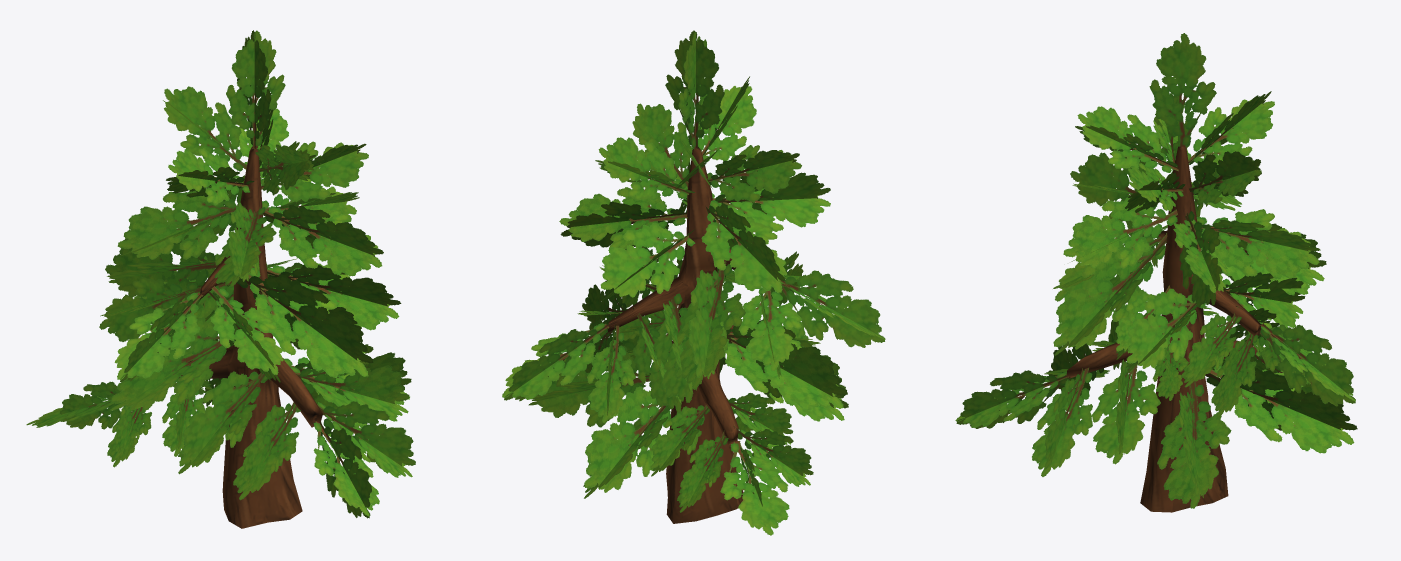
Rendered from tree1_01.fbx.
3 views of the same model, side by side, from view 1: azimuth 30°, elevation 25°; view 2: azimuth 150°, elevation 25°; view 3: azimuth 270°, elevation 25° (orthographic). The views are drawn at different scales.
Visible parts, largest first — view 1: polySurface3, pPlane26, pPlane61, pPlane60, pPlane15, pPlane31, pPlane10, pPlane53, pPlane75, pPlane1, pPlane58, pPlane78 (+36 smaller); view 2: polySurface3, pPlane47, pPlane11, pPlane34, pPlane6, pPlane27, pPlane54, pPlane57, pPlane12, pPlane1, pPlane32, pPlane52 (+32 smaller); view 3: polySurface3, pPlane30, pPlane60, pPlane84, pPlane3, pPlane35, pPlane46, pPlane5, pPlane63, pPlane81, pPlane21, pPlane47 (+32 smaller).
Boxes of the visible parts, bbox=[...] form: polySurface3: bbox=[179, 146, 322, 528]; pPlane26: bbox=[117, 188, 238, 259]; pPlane61: bbox=[248, 267, 368, 377]; pPlane60: bbox=[237, 274, 373, 363]; pPlane15: bbox=[164, 86, 246, 171]; pPlane31: bbox=[262, 206, 382, 276]; pPlane10: bbox=[114, 292, 203, 379]; pPlane53: bbox=[111, 317, 234, 410]; pPlane75: bbox=[179, 371, 265, 466]; pPlane1: bbox=[226, 30, 285, 148]; pPlane58: bbox=[210, 286, 283, 374]; pPlane78: bbox=[318, 401, 415, 468]; polySurface3: bbox=[607, 147, 743, 523]; pPlane47: bbox=[584, 386, 670, 492]; pPlane11: bbox=[780, 270, 885, 347]; pPlane34: bbox=[600, 222, 695, 297]; pPlane6: bbox=[720, 441, 789, 535]; pPlane27: bbox=[701, 200, 787, 292]; pPlane54: bbox=[673, 260, 745, 388]; pPlane57: bbox=[738, 286, 802, 371]; pPlane12: bbox=[598, 137, 688, 200]; pPlane1: bbox=[665, 30, 724, 148]; pPlane32: bbox=[559, 187, 687, 248]; pPlane52: bbox=[725, 333, 843, 410]; polySurface3: bbox=[1066, 146, 1261, 512]; pPlane30: bbox=[1063, 197, 1177, 268]; pPlane60: bbox=[1053, 233, 1167, 349]; pPlane84: bbox=[1157, 380, 1231, 508]; pPlane3: bbox=[1149, 33, 1216, 146]; pPlane35: bbox=[1196, 209, 1319, 279]; pPlane46: bbox=[1209, 366, 1354, 453]; pPlane5: bbox=[1260, 323, 1355, 406]; pPlane63: bbox=[1126, 288, 1205, 368]; pPlane81: bbox=[1091, 364, 1160, 464]; pPlane21: bbox=[1077, 106, 1178, 172]; pPlane47: bbox=[1205, 368, 1357, 430].
Bounding box in the file's own units: 988 × 1207 × 1060.
